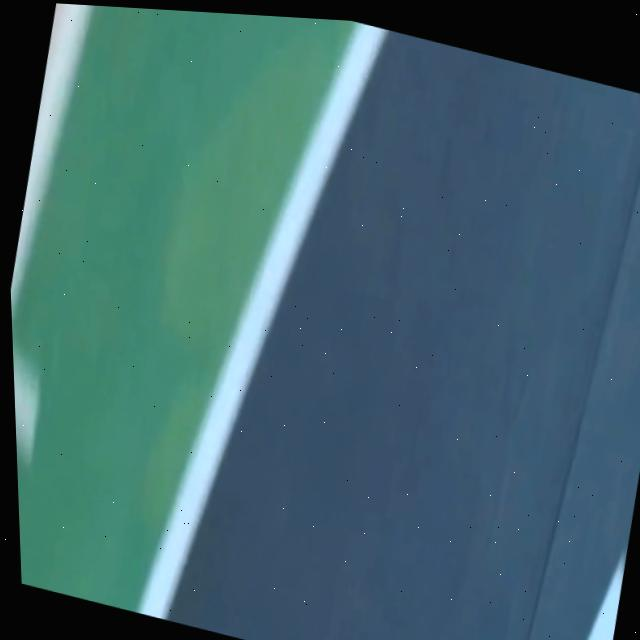center: (589, 554, 626, 640)
right: (139, 23, 388, 621)
